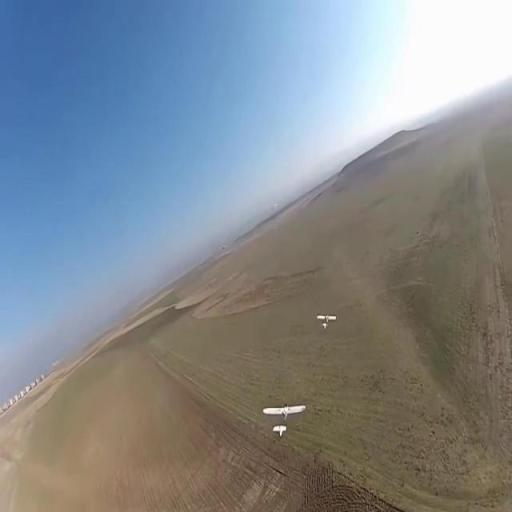uav: (263, 403, 305, 436), (318, 312, 336, 328)
